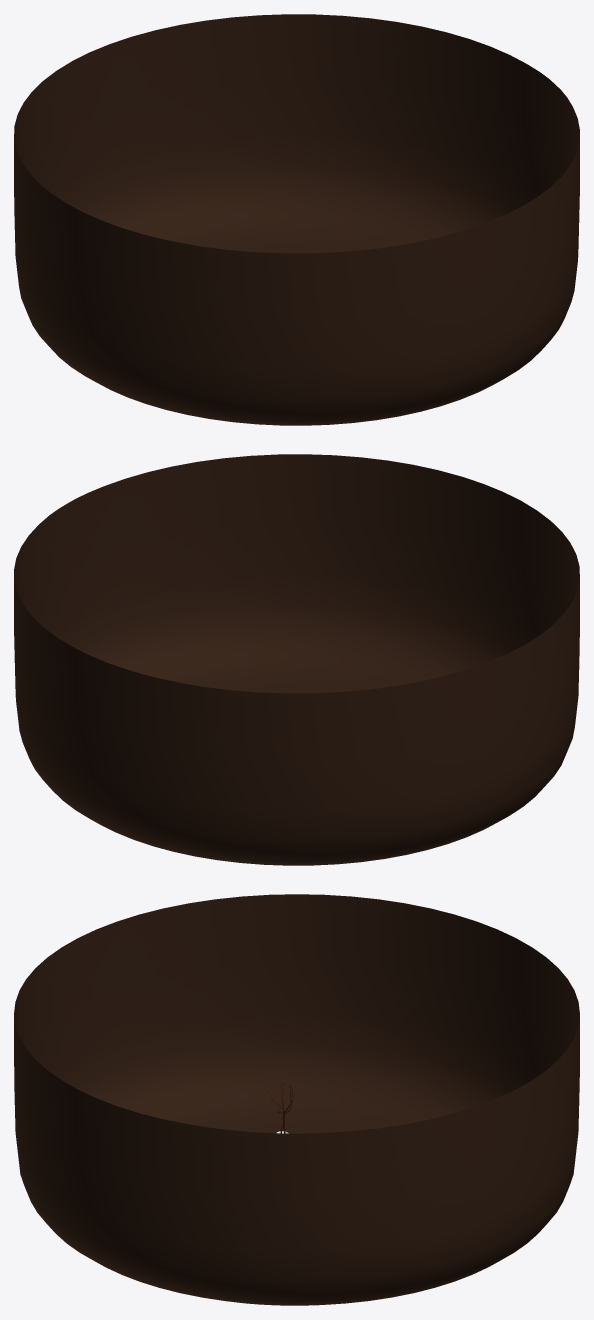
Rendered from candles.glb.
3 renders of one model, top to bottom at view 1: azimuth 30°, elevation 25°; view 2: azimuth 150°, elevation 25°; view 3: azimuth 270°, elevation 25°, orthographic.
Parts seen in each view (by area): view 1: Circle.001; view 2: Circle.001; view 3: Circle.001.
Boxes of the visible parts, <box> form: Circle.001: <box>14,14,579,425</box>; Circle.001: <box>14,454,579,865</box>; Circle.001: <box>14,894,579,1305</box>.
Size of the model in its own units: 41.81 by 16.1 by 41.78.
